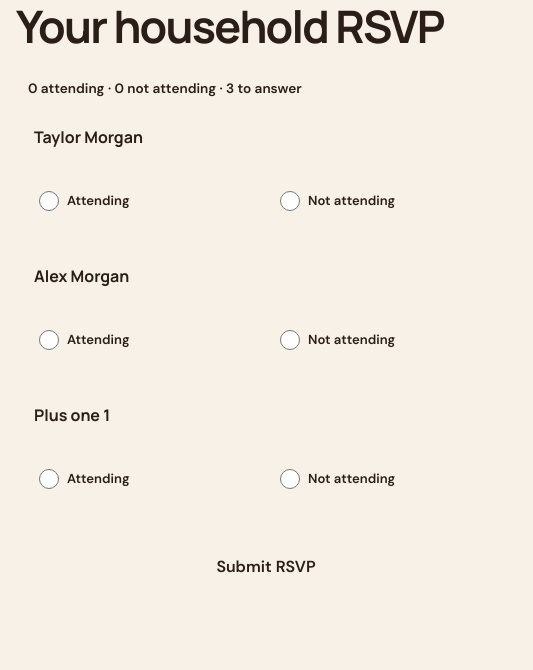
Test: household RSVP guest flow › uses labelled native attendance radios, validates the first incomplete row, and reports only household counts
(page scrolled)
Expected: the heading "Your household RSVP" is shown, top-left (16, 2), bottom-right (516, 51)
Expected: the element "Plus one 1" is shown, top-left (34, 404), bottom-right (395, 503)
Click the button "Submit RSVP": (266, 567) top-left (16, 543), bottom-right (516, 591)
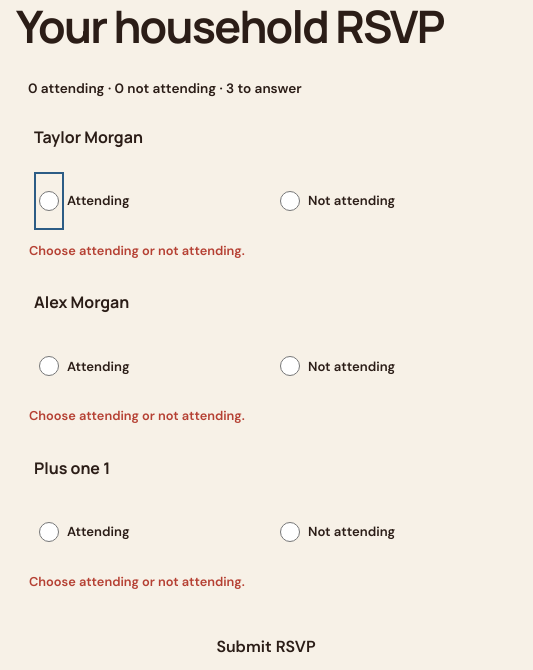
Expected: the text "Choose attending or not attending." below "Taylor Morgan" is shown, top-left (29, 242), bottom-right (245, 259)
